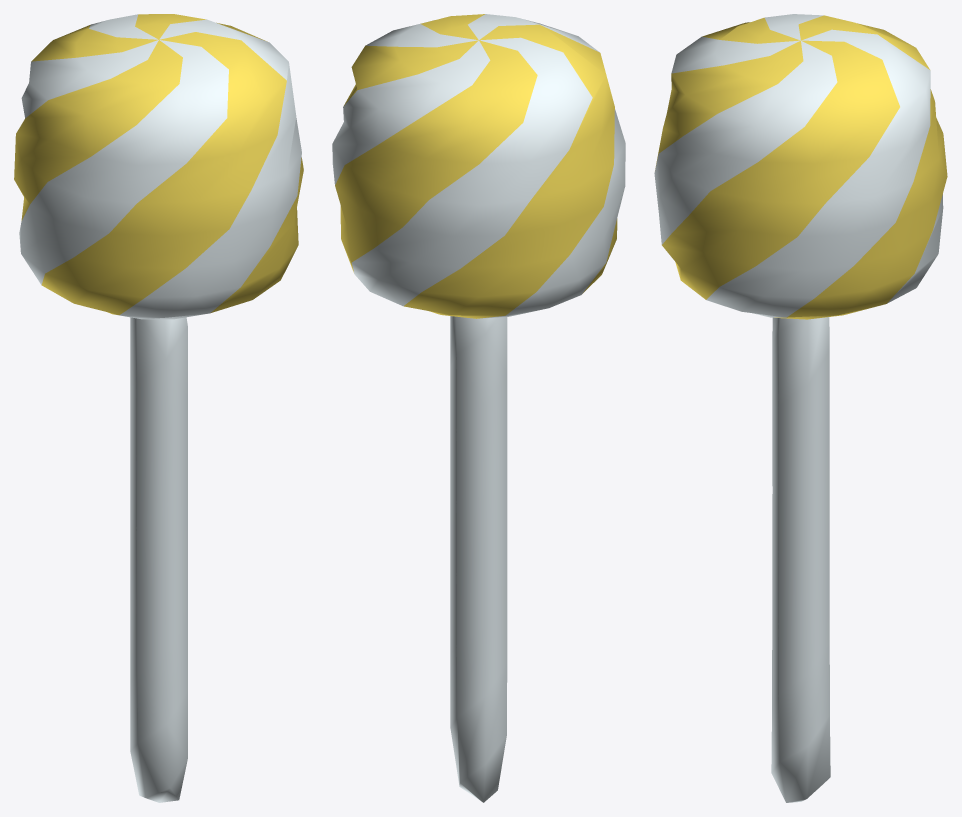
File: candy_assets34.fbx
3 renders of one model, left to right at view 1: azimuth 30°, elevation 25°; view 2: azimuth 150°, elevation 25°; view 3: azimuth 270°, elevation 25°, orthographic.
Parts seen in each view (by area): view 1: candy_assets34; view 2: candy_assets34; view 3: candy_assets34.
Boxes of the visible parts, x1,y1,x2,y2 form: candy_assets34: (14,14,303,802); candy_assets34: (332,14,625,802); candy_assets34: (654,14,947,802).
Bounding box in the file's own units: 367 × 1052 × 367.
Materials: 1 (1 with a texture image).
